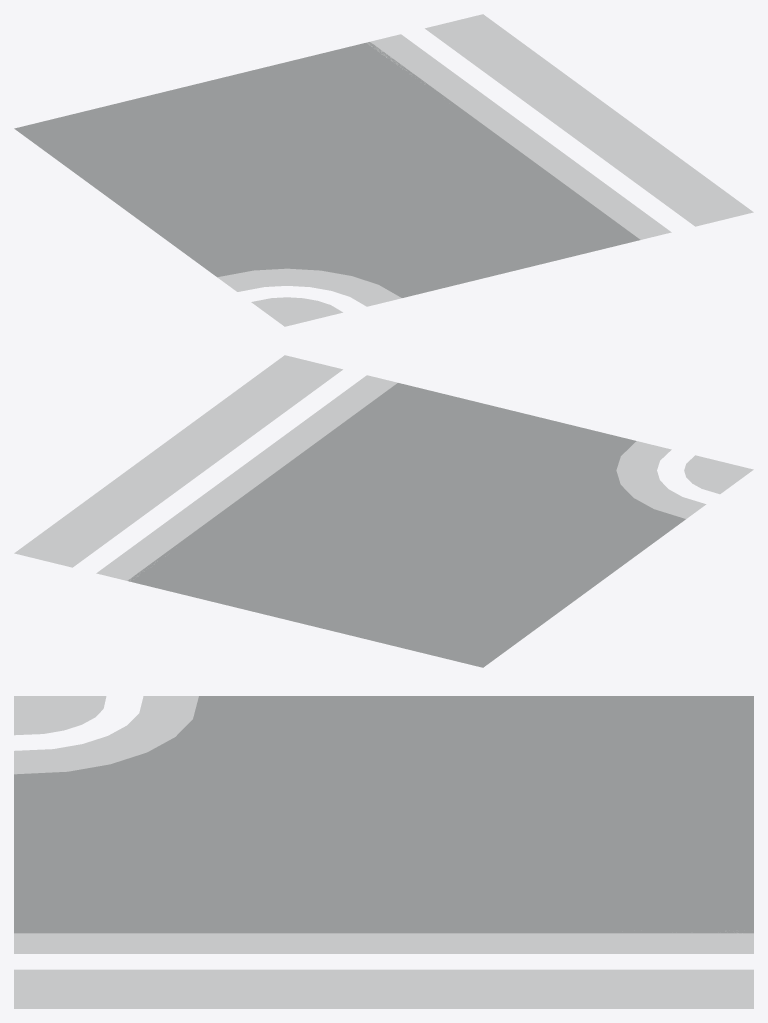
The model's file is Ceiling_type_A_034_010.glb.
3 views of the same model, one above another, from view 1: azimuth 30°, elevation 25°; view 2: azimuth 150°, elevation 25°; view 3: azimuth 270°, elevation 25° (orthographic). The views are drawn at different scales.
Visible parts, largest first — view 1: Ceiling_type_A_034.010; view 2: Ceiling_type_A_034.010; view 3: Ceiling_type_A_034.010.
Boxes of the visible parts, box(x1,y1,x2,y2) form: Ceiling_type_A_034.010: box(14, 14, 753, 326); Ceiling_type_A_034.010: box(14, 355, 753, 667); Ceiling_type_A_034.010: box(14, 696, 753, 1008).
Size of the model in its own units: 4 by 0.012 by 4.
2 materials, 2 textured.
